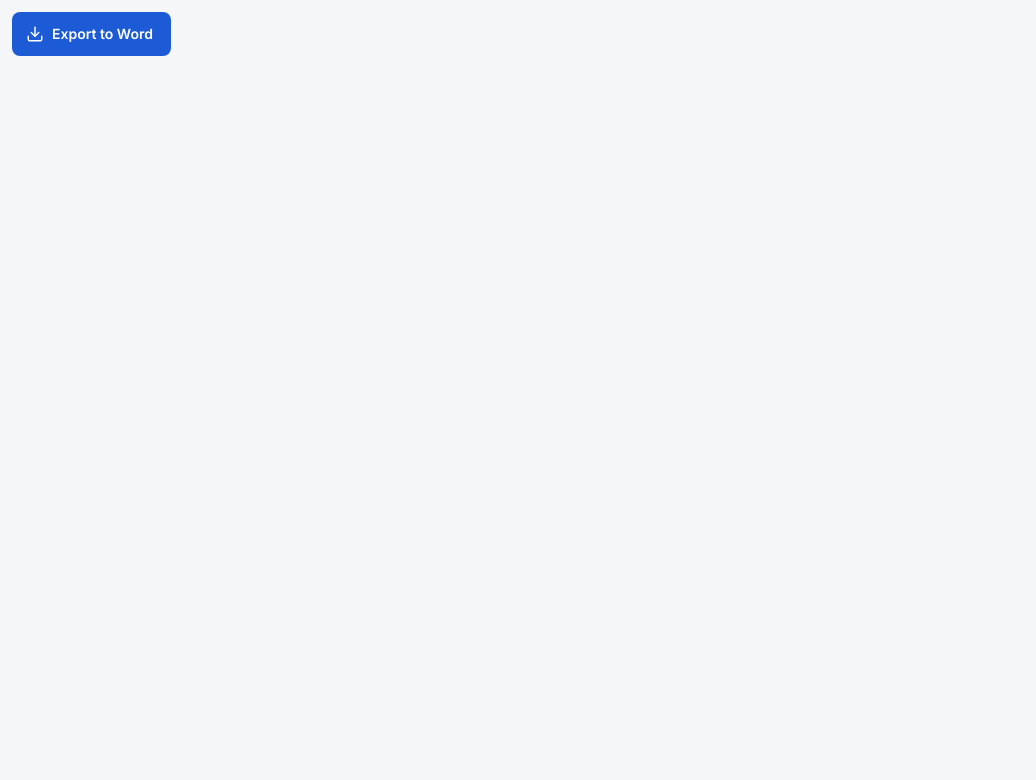
Scenario: ExportButton › shows the export-failed toast with focus on Try again; Try again re-runs the export
Step 1. Click the button "Export to Word" → (91, 34), box top-left (12, 12), bottom-right (171, 56)
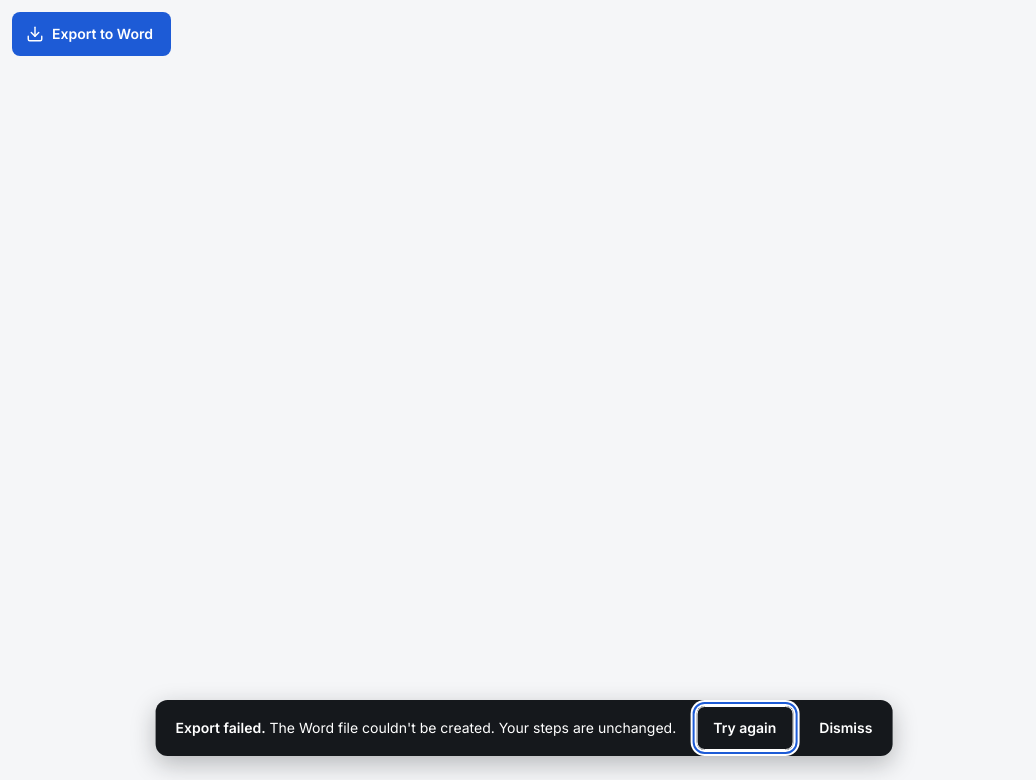
Now the text "couldn.t be created" is shown, box top-left (266, 719), bottom-right (676, 736)
Step 2. Click the button "Try again" → (745, 728), box top-left (696, 706), bottom-right (793, 750)
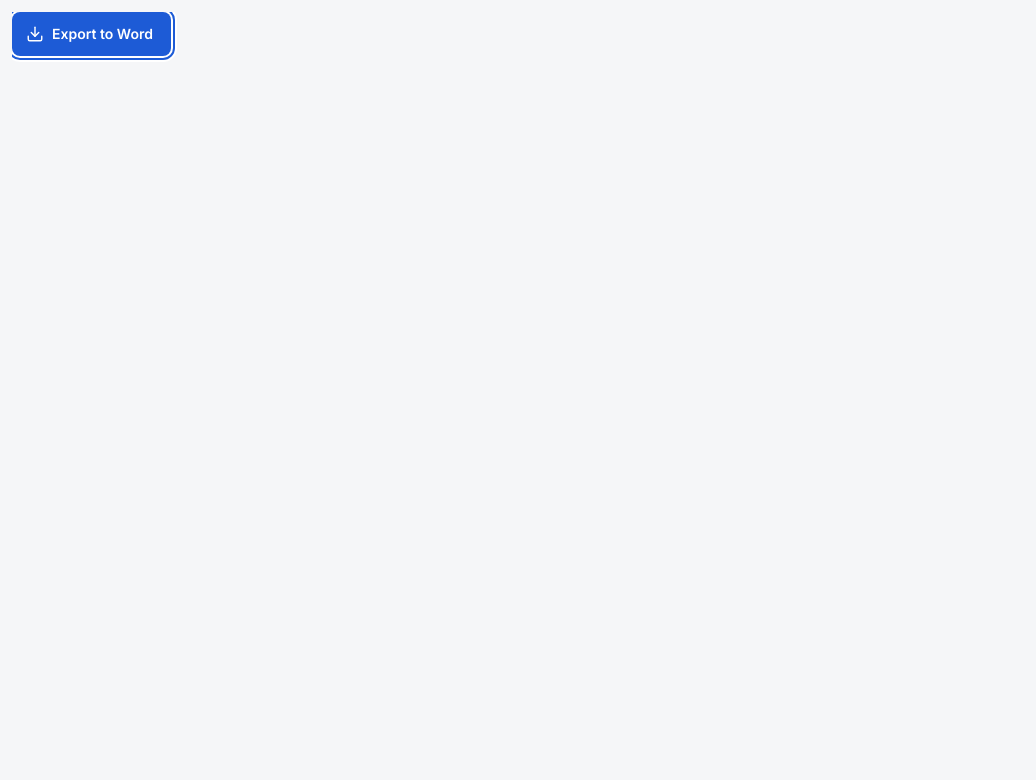
Now the button "Try again" is gone
